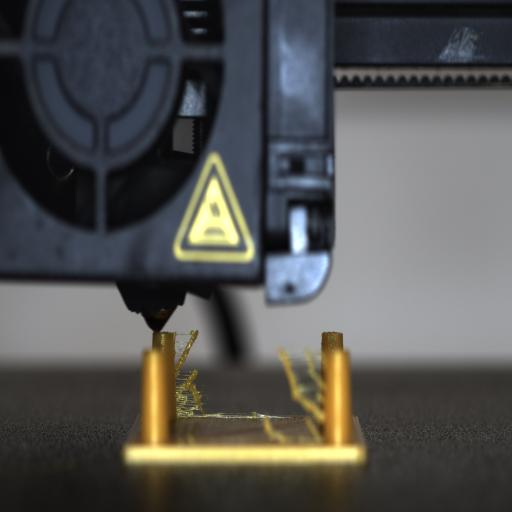stringing: (165, 328, 313, 426), (173, 330, 199, 376)
